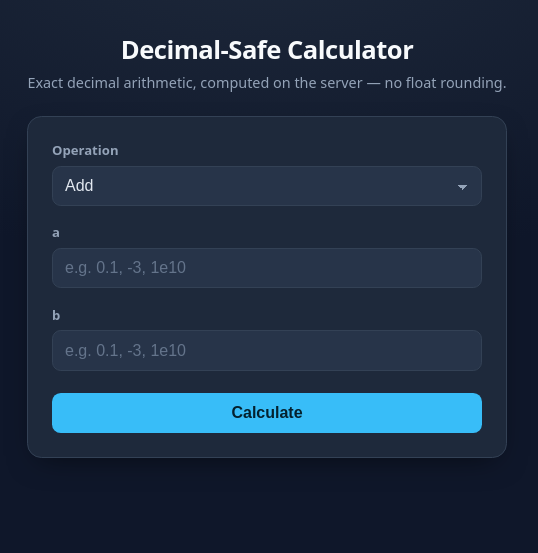
Test: <App /> › shows a network error when the backend is unreachable
In the field labelled "a": (267, 268) [52,248,482,288], type "1"
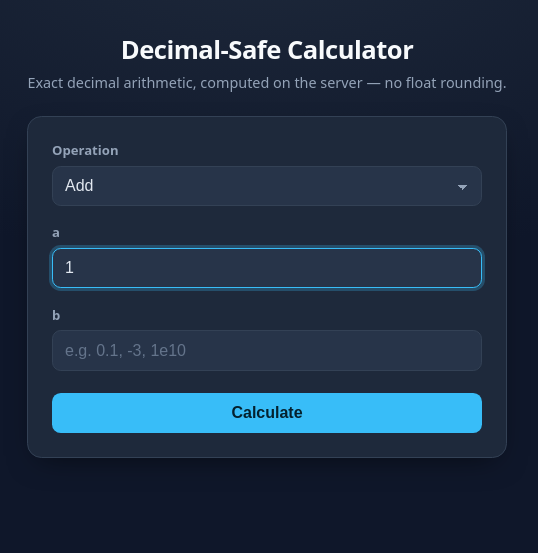
In the field labelled "b": (267, 351) [52,330,482,371], type "2"
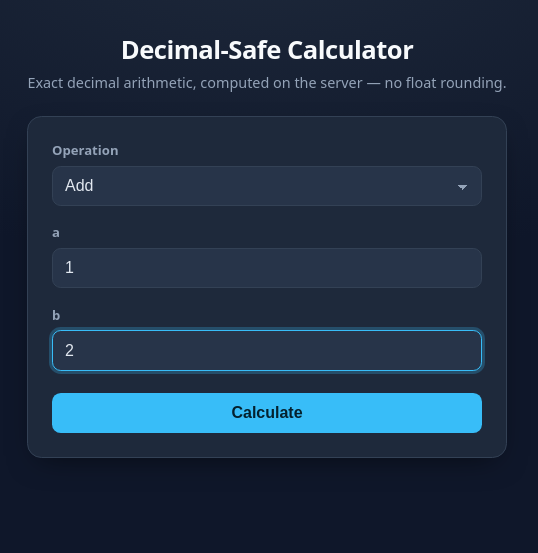
Click the button "Calculate": (267, 413) [52,393,482,433]
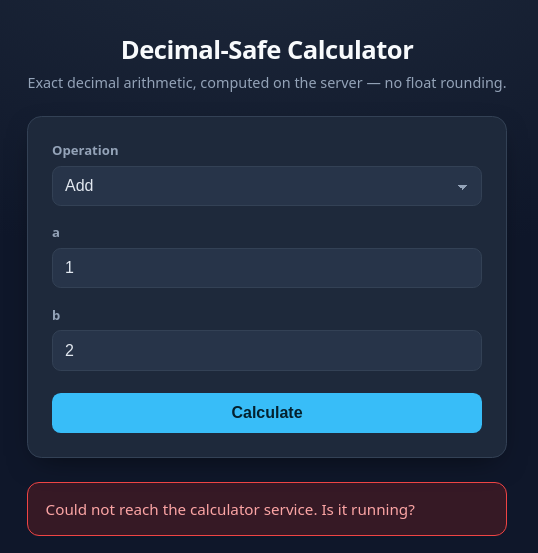
expect the message shows "Could not reach": met, box [46,499,415,519]
